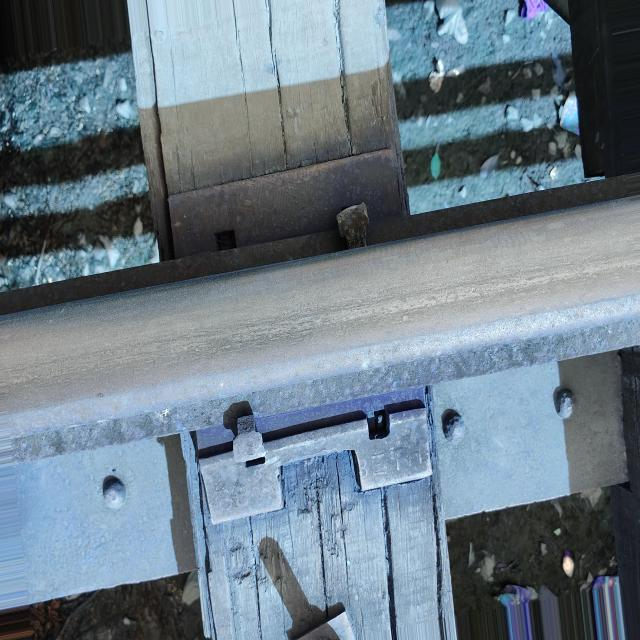Missing Dogscrew: (369, 409, 389, 437), (215, 230, 237, 250)
